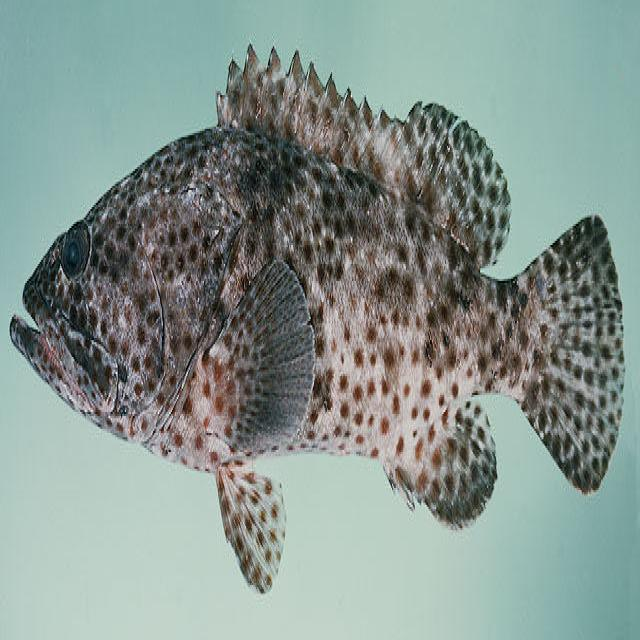ikan: (9, 40, 626, 596)
